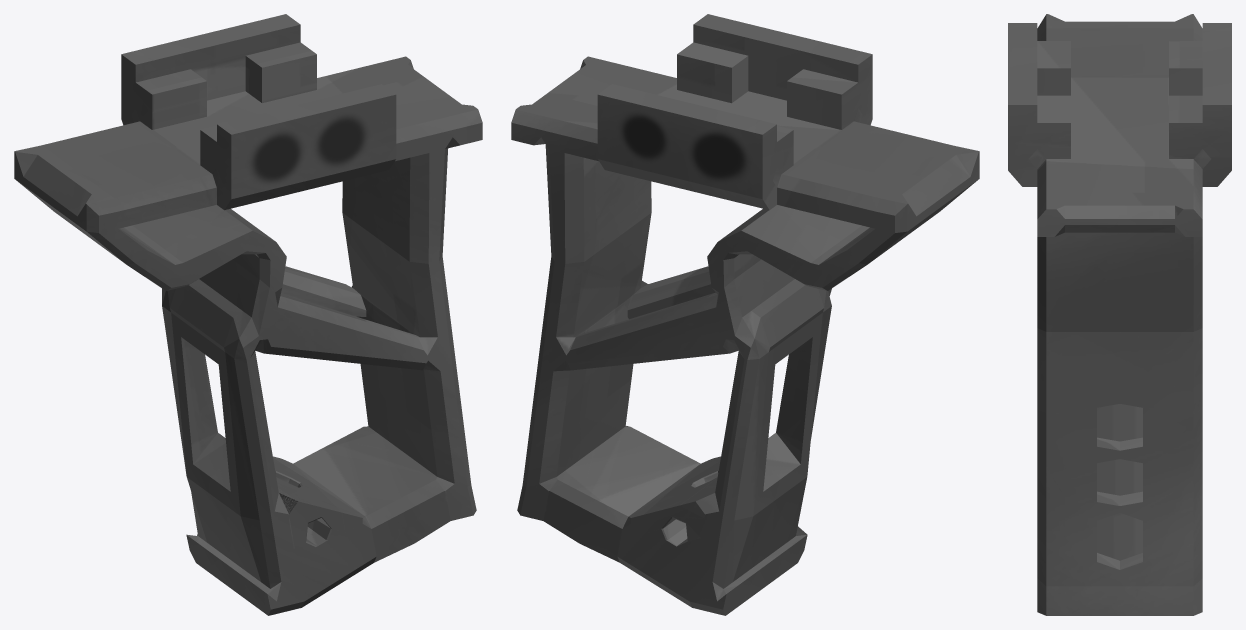
File: ForearmHandleSkeletal.fbx
3 views of the same model, side by side, from view 1: azimuth 30°, elevation 25°; view 2: azimuth 150°, elevation 25°; view 3: azimuth 270°, elevation 25° (orthographic).
Parts seen in each view (by area): view 1: ForearmHandleSkeletal; view 2: ForearmHandleSkeletal; view 3: ForearmHandleSkeletal.
Part boxes in pixels (x1,y1,x2,y2): ForearmHandleSkeletal: [14, 14, 482, 615]; ForearmHandleSkeletal: [511, 14, 979, 615]; ForearmHandleSkeletal: [1008, 14, 1231, 615].
Bounding box in the file's own units: 14.88 × 18.46 × 7.24.
1 material, 1 textured.
